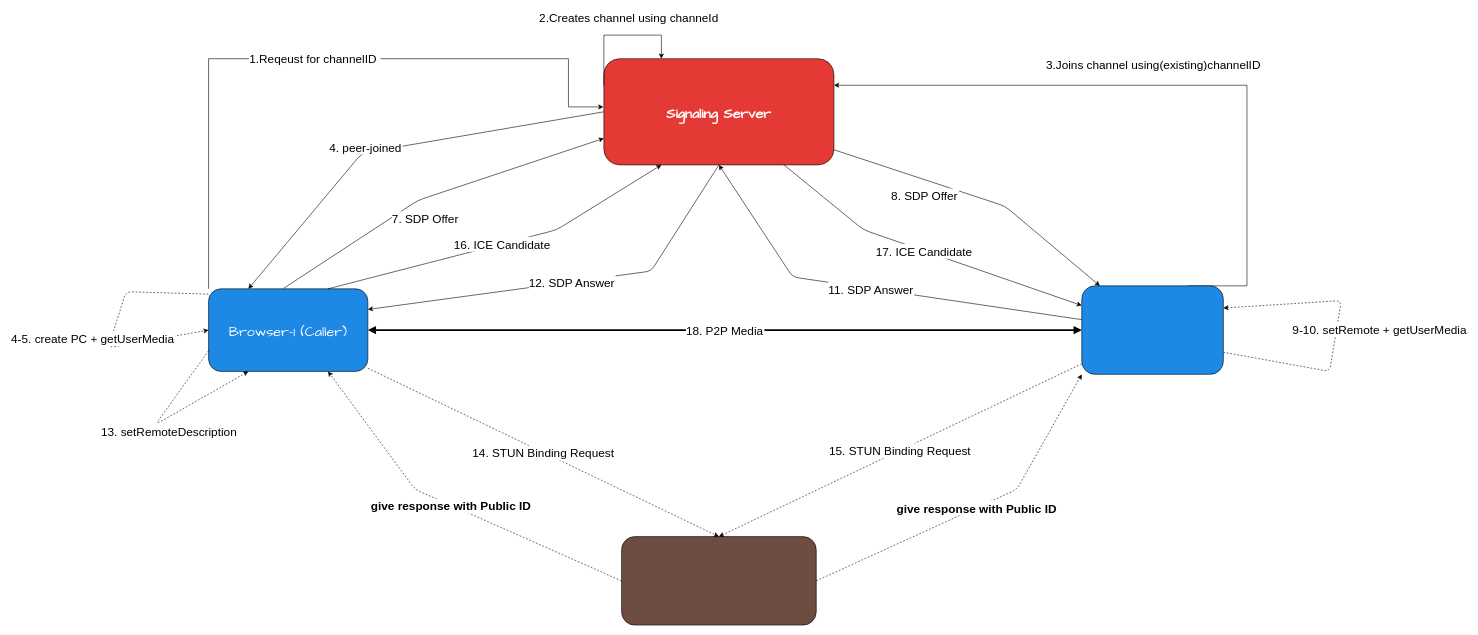
Some shapes in this 1478 by 635 pixel diagram are drawn without their labels. The centre of each missing label's shape, as x and y in pixels:
"Browser-2 (Joiner)" goes at (1152,329).
"STUN Server" goes at (718,580).
